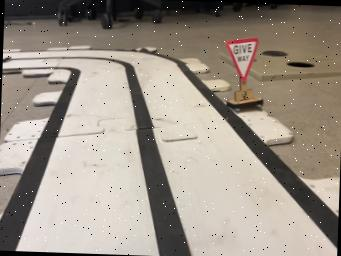give_way: (225, 37, 263, 112)
street: (0, 48, 338, 256)
